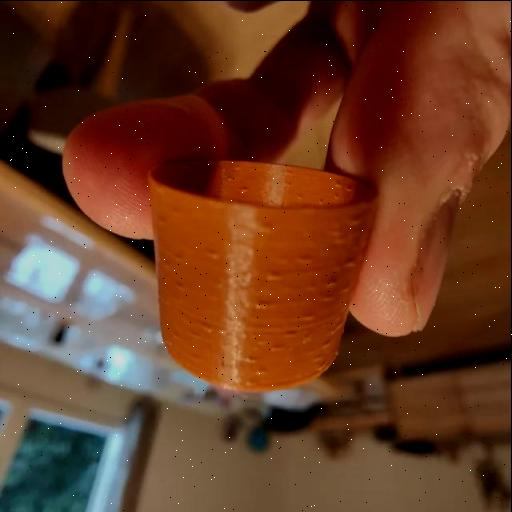blobs: (154, 210, 173, 224), (266, 269, 284, 283), (252, 365, 270, 378), (245, 354, 261, 368), (298, 252, 316, 264), (172, 250, 186, 264), (270, 344, 286, 356), (252, 300, 271, 310), (209, 248, 222, 262), (342, 258, 356, 270), (200, 322, 216, 332), (174, 278, 185, 292), (300, 312, 318, 320), (294, 191, 308, 201), (308, 284, 320, 294), (239, 184, 251, 194), (324, 278, 338, 286), (316, 196, 330, 204), (286, 327, 297, 337), (226, 174, 236, 184), (331, 194, 345, 200), (335, 180, 344, 189)
